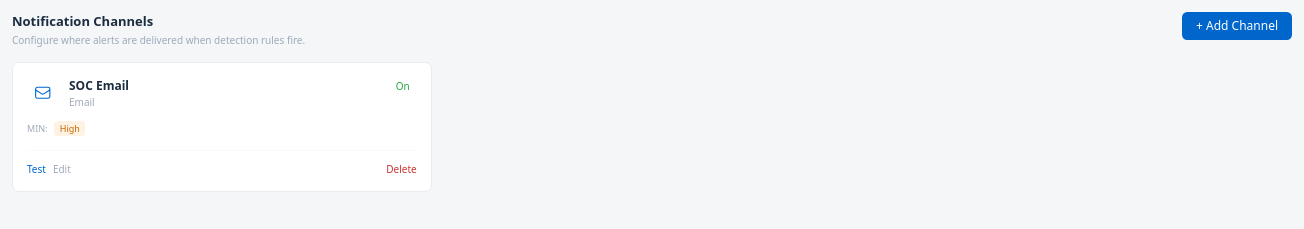
Test: NotificationsTab › test mutation › shows "Last test: Failed" after a failed test
What coordinates should you click on to do the following:
click the button "Test"
I would click on:
 (36, 169)
Its box is [27,162,46,177].
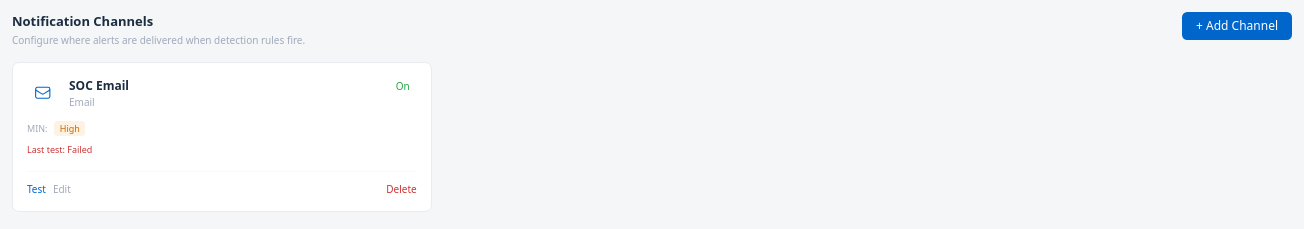
Check: the text "Last test: Failed" is shown, box [27,143,92,156]
